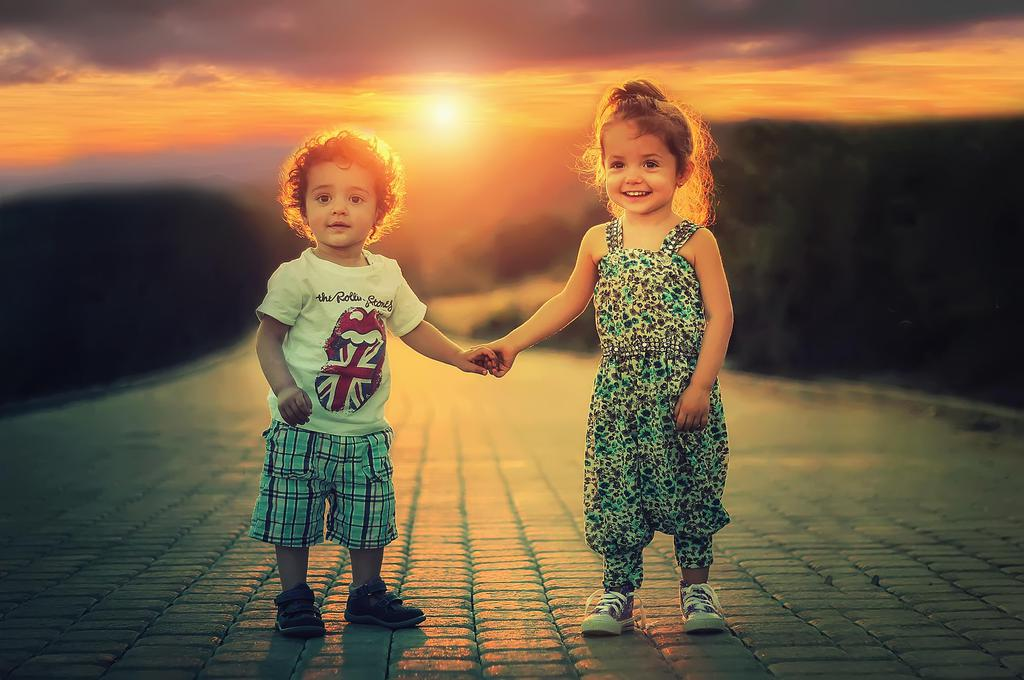child: (455, 72, 776, 645), (218, 123, 489, 660)
